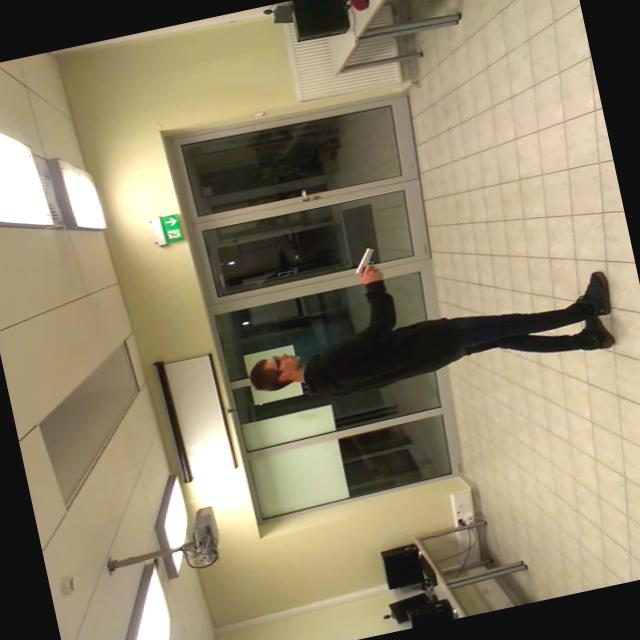handgun: (338, 238, 394, 282)
